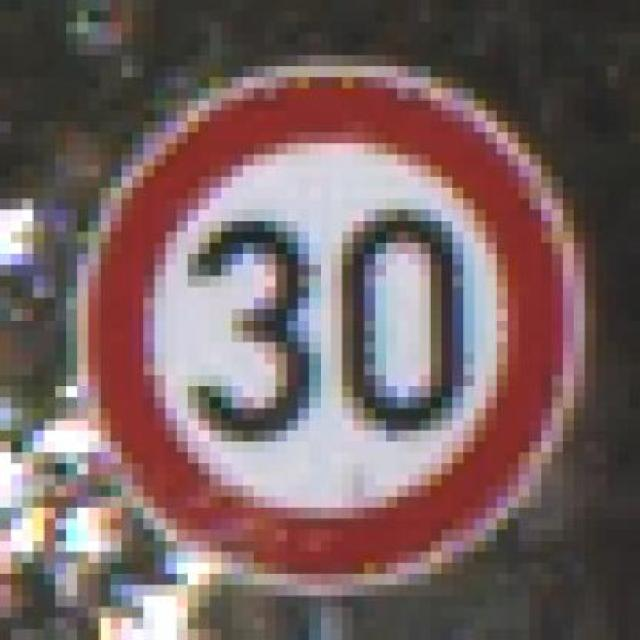Speed Limit 30 KMPh: (32, 33, 630, 596)
